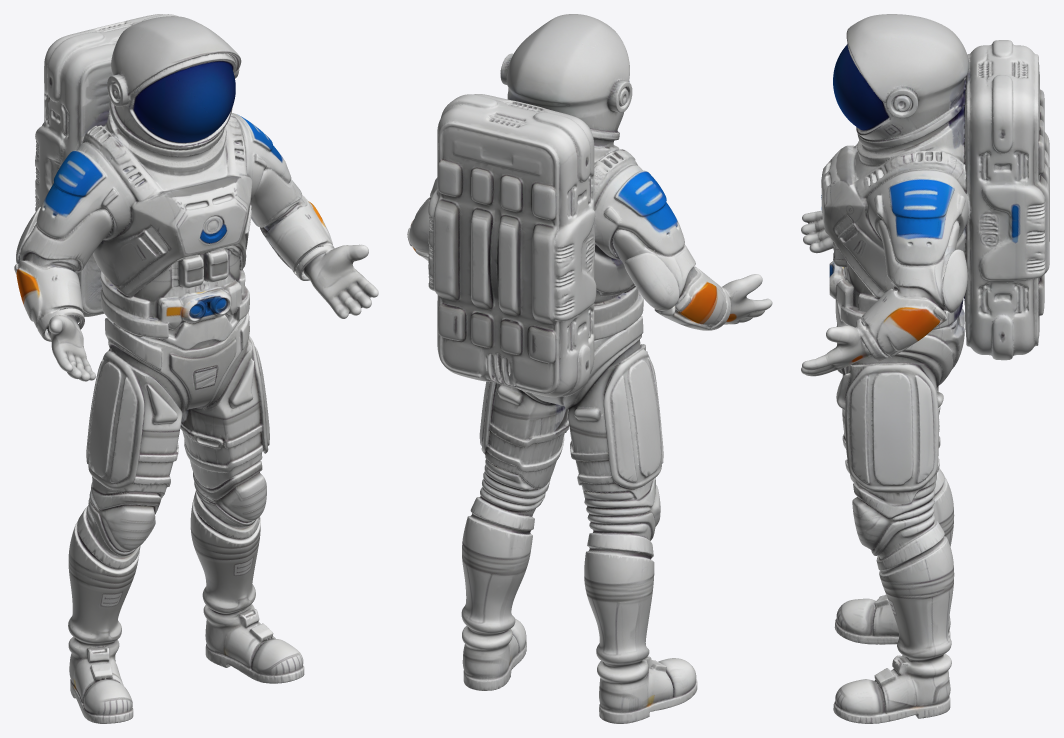
File: astronaut1.glb
The picture shows the model from 3 angles, left to right: view 1: azimuth 30°, elevation 25°; view 2: azimuth 150°, elevation 25°; view 3: azimuth 270°, elevation 25°; orthographic projection.
Parts seen in each view (by area): view 1: Mesh_0_Material.001_0 (×6); view 2: Mesh_0_Material.001_0 (×5); view 3: Mesh_0_Material.001_0 (×6).
Boxes of the visible parts, bbox=[...] form: Mesh_0_Material.001_0 (×6): bbox=[14, 14, 378, 723]; Mesh_0_Material.001_0 (×5): bbox=[407, 14, 772, 723]; Mesh_0_Material.001_0 (×6): bbox=[801, 14, 1049, 723].
Bounding box in the file's own units: 0.9567 × 1.9 × 0.6553.
Materials: 1 (1 with a texture image).
